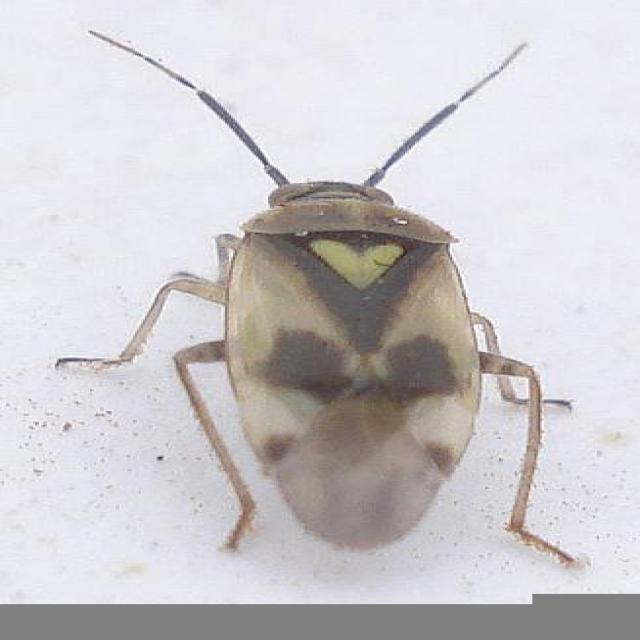Miridae-Adult-: (32, 21, 588, 579)
